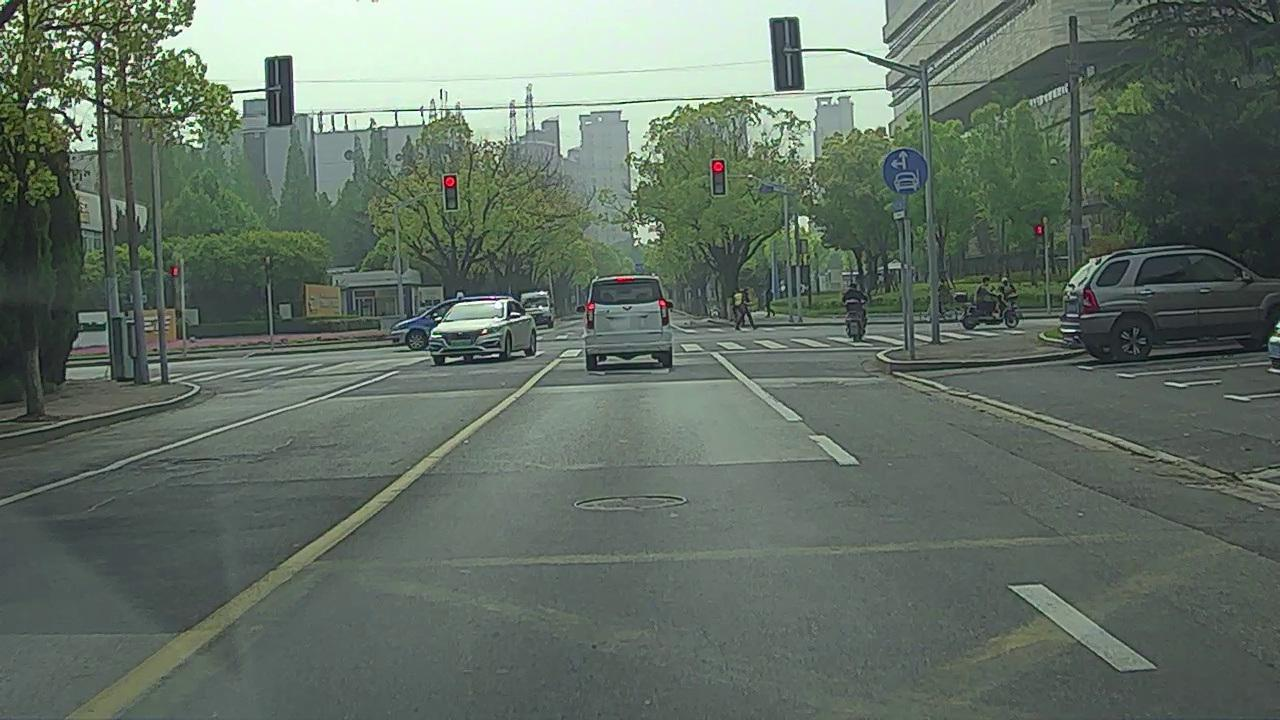traffic_light: (443, 174, 458, 209), (711, 161, 725, 195)
